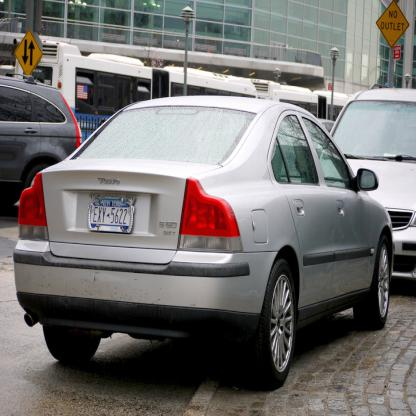Car: (13, 94, 395, 391), (320, 87, 415, 278), (0, 73, 83, 211)
